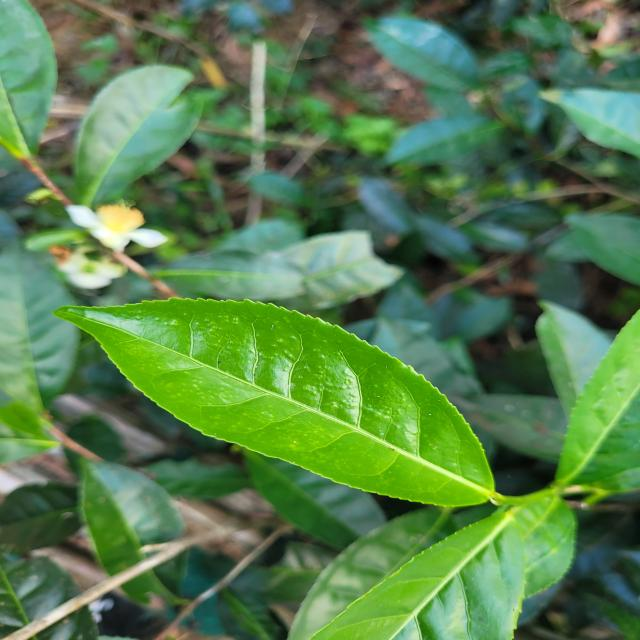Category D(7+ days, Not for Tea): (35, 275, 518, 528)
